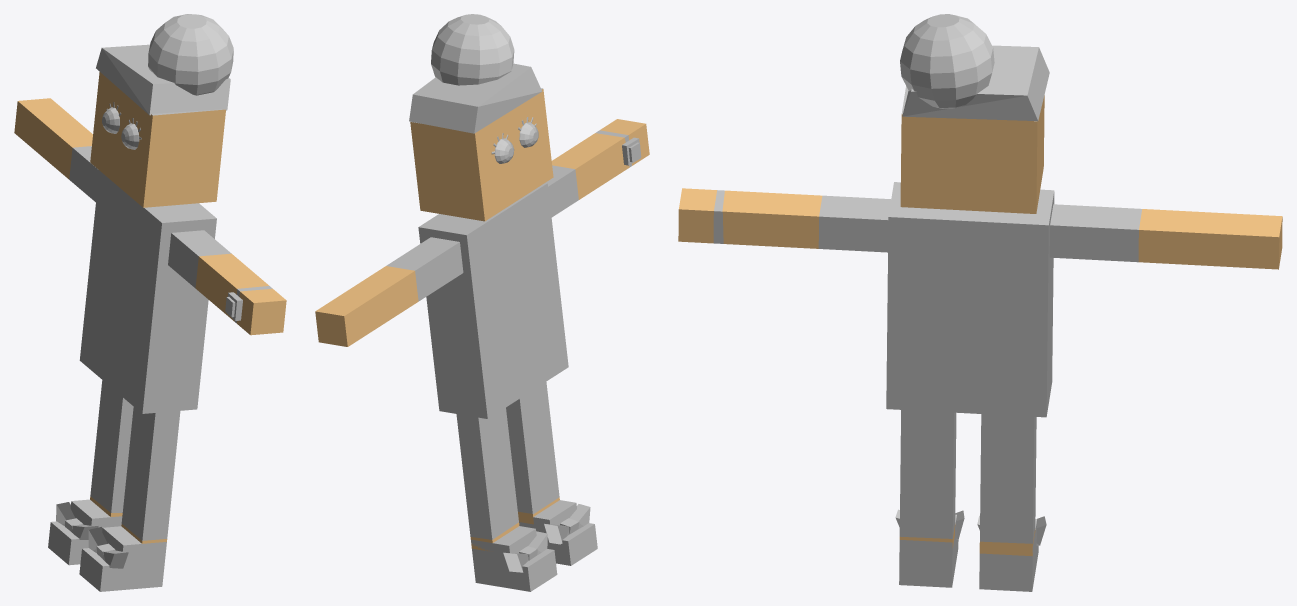
File: Human.obj
3 renders of one model, left to right at view 1: azimuth 30°, elevation 25°; view 2: azimuth 150°, elevation 25°; view 3: azimuth 270°, elevation 25°, orthographic. The views are drawn at different scales.
Size of the model in its own units: 0.5417 by 1.91 by 1.76.
